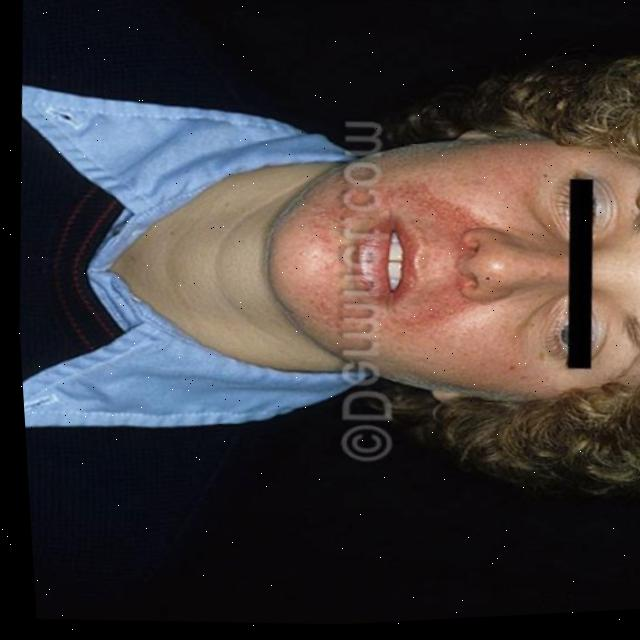Rosacea: (290, 161, 481, 347)
